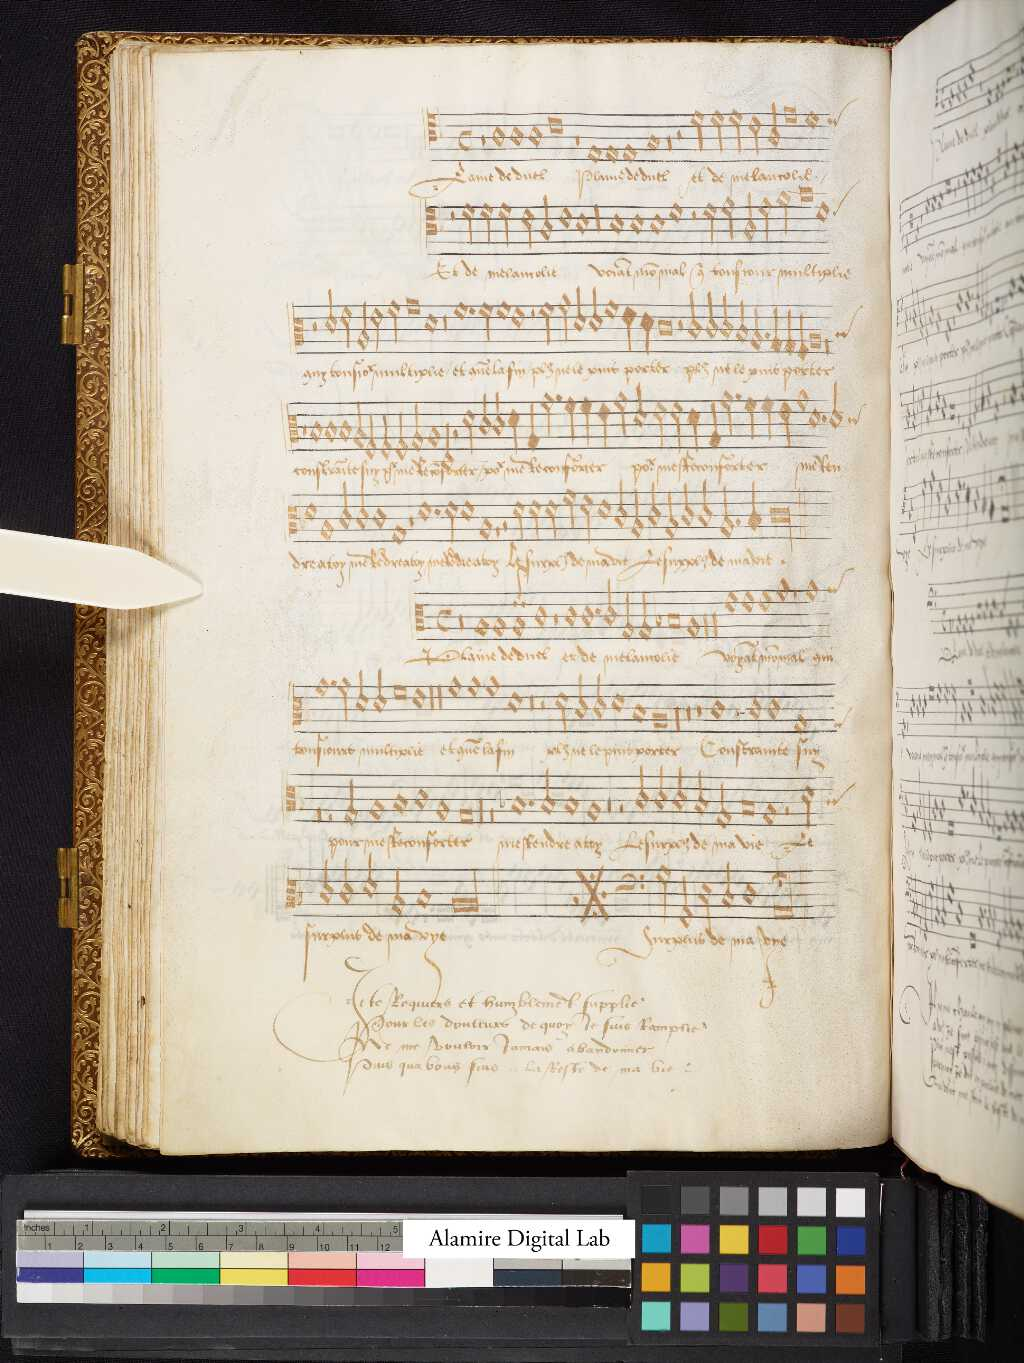breve rest: (691, 673, 706, 736), (524, 673, 537, 739), (683, 676, 693, 736)
breve_4: (388, 677, 410, 706)
breve_9: (648, 705, 673, 736)
c clef_7: (287, 679, 305, 735)
custos_10: (827, 706, 850, 735)
longa rest: (433, 657, 447, 732), (670, 676, 684, 747), (426, 675, 437, 740)
minim rest: (536, 675, 550, 736), (730, 678, 740, 740)
minim_3: (336, 668, 352, 726)
minim_6: (369, 664, 392, 721), (351, 664, 372, 721), (554, 684, 571, 736)
minim_7: (586, 669, 610, 728), (568, 668, 591, 728)
point: (324, 673, 340, 692)
semibreve_10: (790, 701, 816, 743)
semibreve_3: (481, 668, 504, 704), (309, 668, 332, 701), (444, 668, 465, 704), (464, 669, 483, 702)
semibreve_5: (408, 679, 428, 714)
semibreve_6: (504, 682, 526, 721), (609, 684, 628, 719)
semibreve_7: (743, 688, 766, 726), (764, 688, 786, 726), (707, 691, 728, 727)
semibreve_8: (628, 694, 648, 729)
